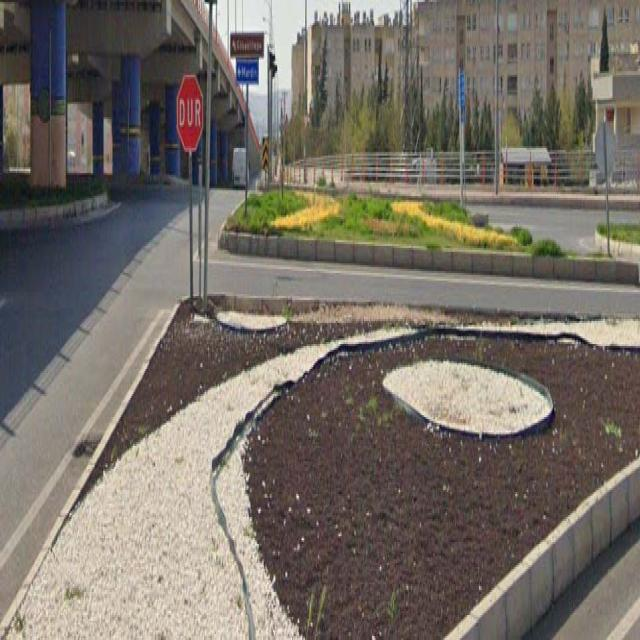dur: (176, 75, 202, 152)
